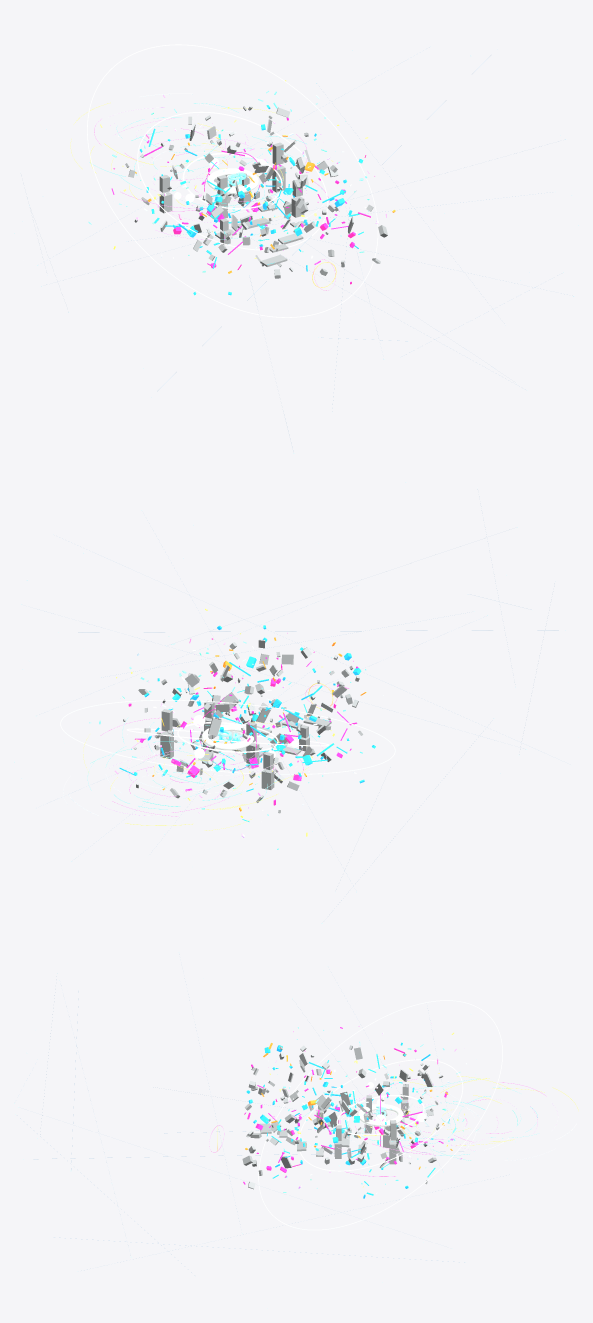
The model's file is acp-world.glb.
3 renders of one model, top to bottom at view 1: azimuth 30°, elevation 25°; view 2: azimuth 150°, elevation 25°; view 3: azimuth 270°, elevation 25°, orthographic. The views are drawn at different scales.
Parts seen in each view (by area): view 1: OZ | giant orbital rail Sky, OZ | giant orbital rail Rose, OZ | floating central dais; view 2: OZ | giant orbital rail Sky, OZ | floating central dais; view 3: OZ | giant orbital rail Sky, OZ | giant orbital rail Rose, OZ | floating central dais.
Part boxes in pixels (bbox=[...]): OZ | giant orbital rail Sky: bbox=[87, 44, 378, 317]; OZ | giant orbital rail Rose: bbox=[137, 111, 328, 250]; OZ | floating central dais: bbox=[207, 168, 258, 193]; OZ | giant orbital rail Sky: bbox=[60, 700, 395, 774]; OZ | floating central dais: bbox=[201, 724, 253, 750]; OZ | giant orbital rail Sky: bbox=[258, 1000, 502, 1230]; OZ | giant orbital rail Rose: bbox=[298, 1059, 463, 1171]; OZ | floating central dais: bbox=[357, 1104, 403, 1126].
Bounding box in the file's own units: 1660 × 826 × 1862.
